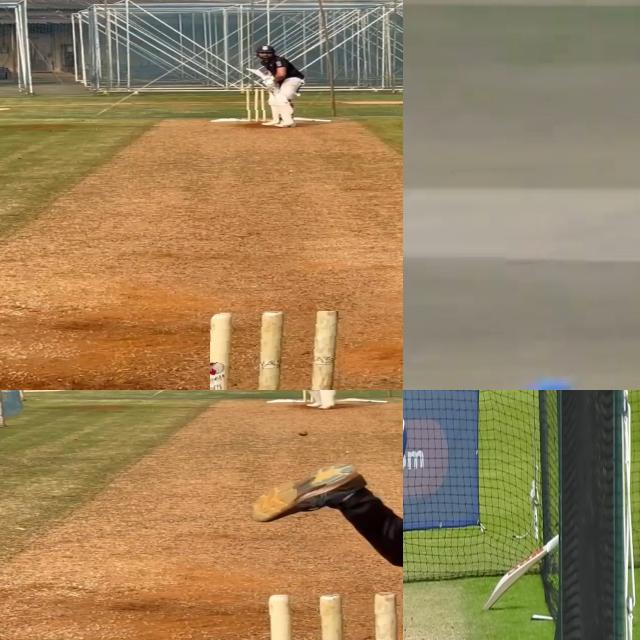Cricket ball: (298, 430, 309, 438)
Stumps: (210, 311, 347, 390), (265, 592, 400, 640), (242, 87, 266, 123)
